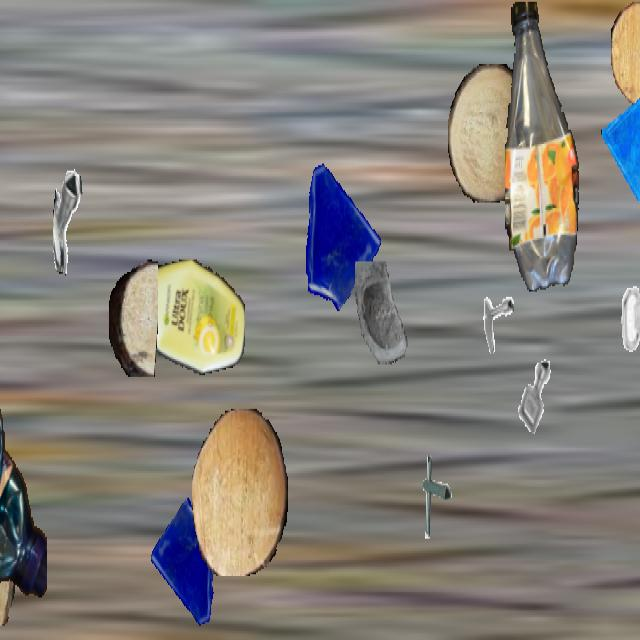glass: (293, 151, 383, 311), (149, 498, 227, 636), (349, 262, 417, 382), (601, 89, 640, 199)
metal: (53, 169, 115, 279), (507, 347, 563, 446), (408, 450, 460, 542), (472, 277, 514, 352), (613, 263, 640, 370)
plastic: (505, 2, 581, 290), (132, 259, 244, 377), (0, 366, 46, 608)
wood: (192, 409, 288, 576), (448, 64, 530, 203), (109, 258, 157, 375), (0, 404, 19, 638), (611, 2, 640, 105)
